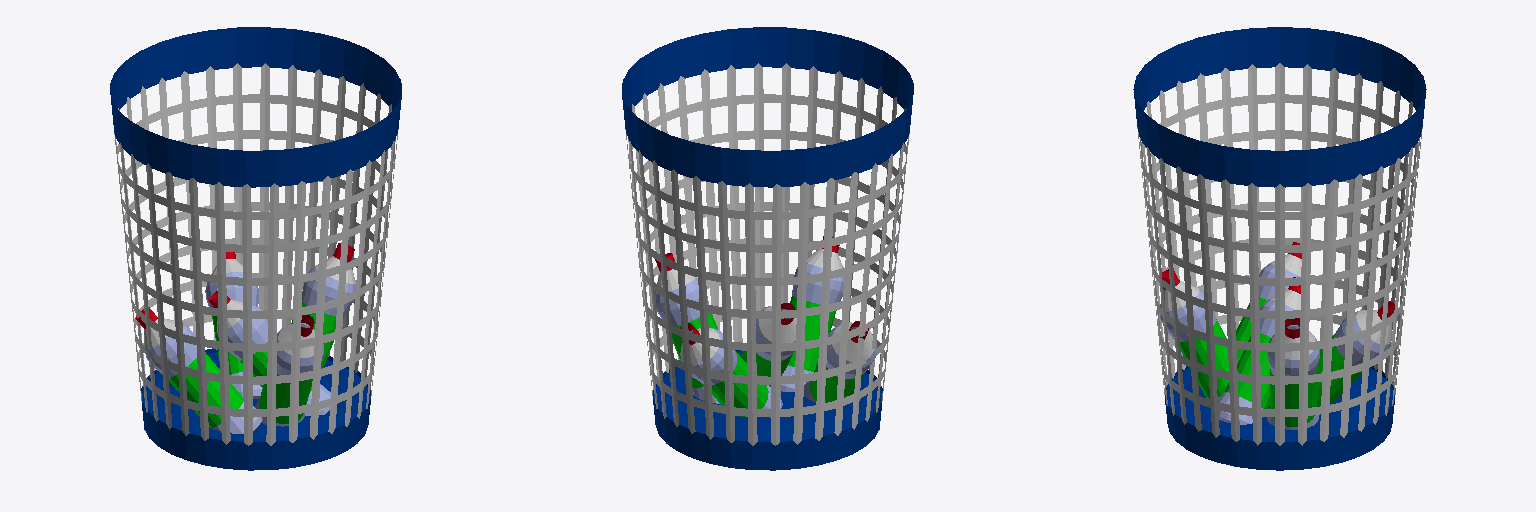
File: DustbinFill.obj
The picture shows the model from 3 angles: view 1: azimuth 30°, elevation 25°; view 2: azimuth 150°, elevation 25°; view 3: azimuth 270°, elevation 25°; orthographic projection.
Parts seen in each view (by area): view 1: Cylinder, Plane.004, Plane, Plane.002, Plane.003, Plane.001; view 2: Cylinder, Plane, Plane.001, Plane.004, Plane.002, Plane.003; view 3: Cylinder, Plane, Plane.003, Plane.002, Plane.001, Plane.004.
Part boxes in pixels (x1,y1,x2,y2): Cylinder: (110, 27, 401, 470); Plane.004: (135, 307, 262, 433); Plane: (255, 315, 323, 426); Plane.002: (291, 243, 355, 368); Plane.003: (208, 291, 330, 415); Plane.001: (205, 252, 262, 398); Cylinder: (622, 27, 913, 470); Plane: (770, 236, 843, 391); Plane.001: (679, 323, 782, 416); Plane.004: (804, 321, 876, 402); Plane.002: (655, 253, 719, 403); Plane.003: (740, 303, 796, 385); Cylinder: (1133, 27, 1426, 470); Plane: (1160, 269, 1238, 399); Plane.003: (1218, 277, 1300, 424); Plane.002: (1267, 318, 1319, 429); Plane.001: (1317, 301, 1394, 406); Plane.004: (1236, 242, 1301, 359).
Bounding box in the file's own units: 2.6 × 3.27 × 2.6.